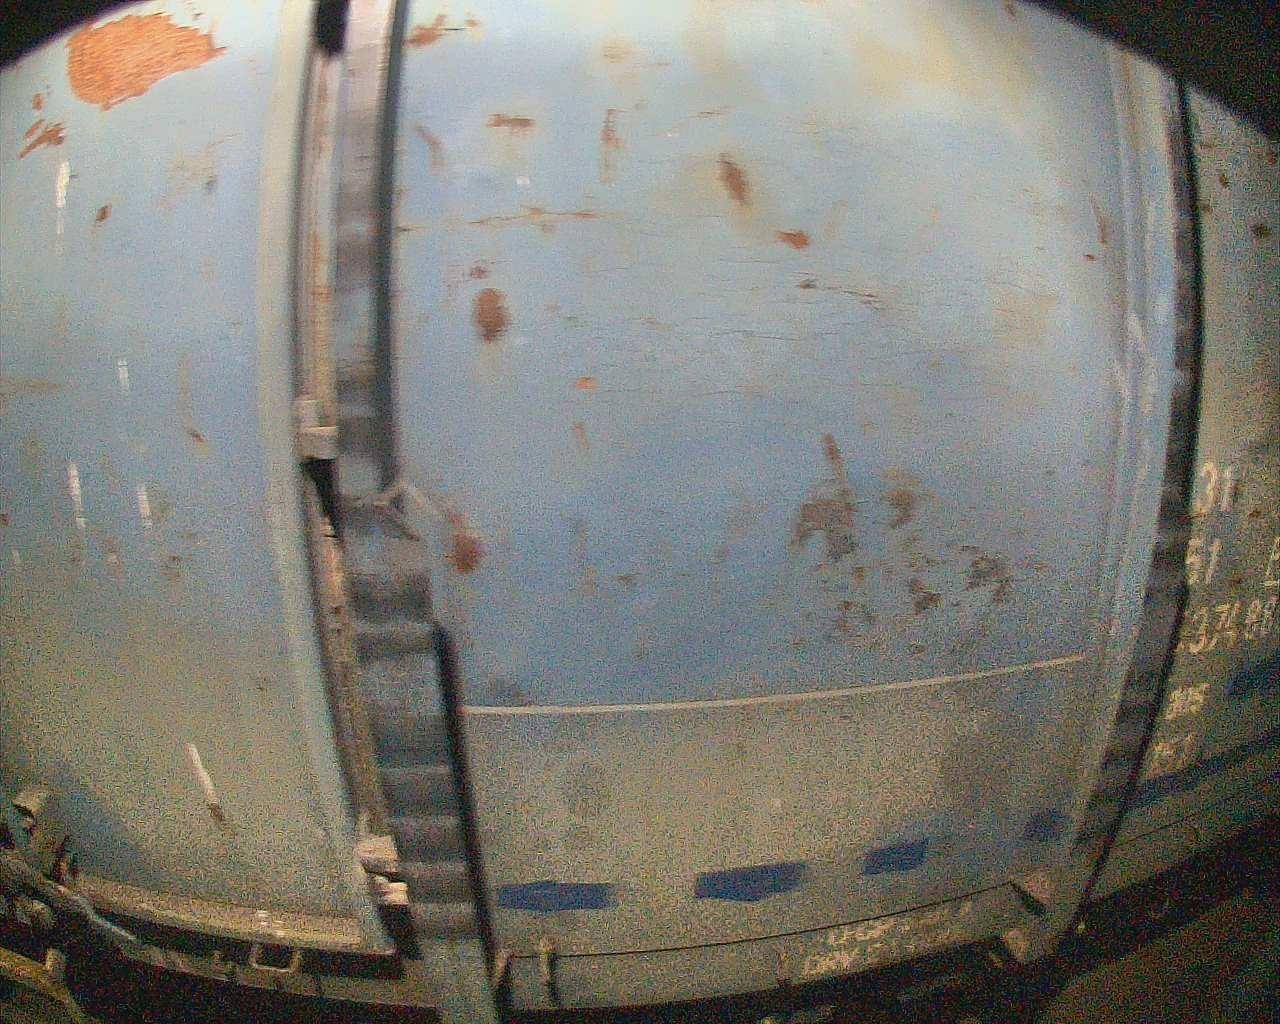UIC: (1146, 456, 1280, 782)
